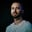face: (9, 2, 23, 18)
